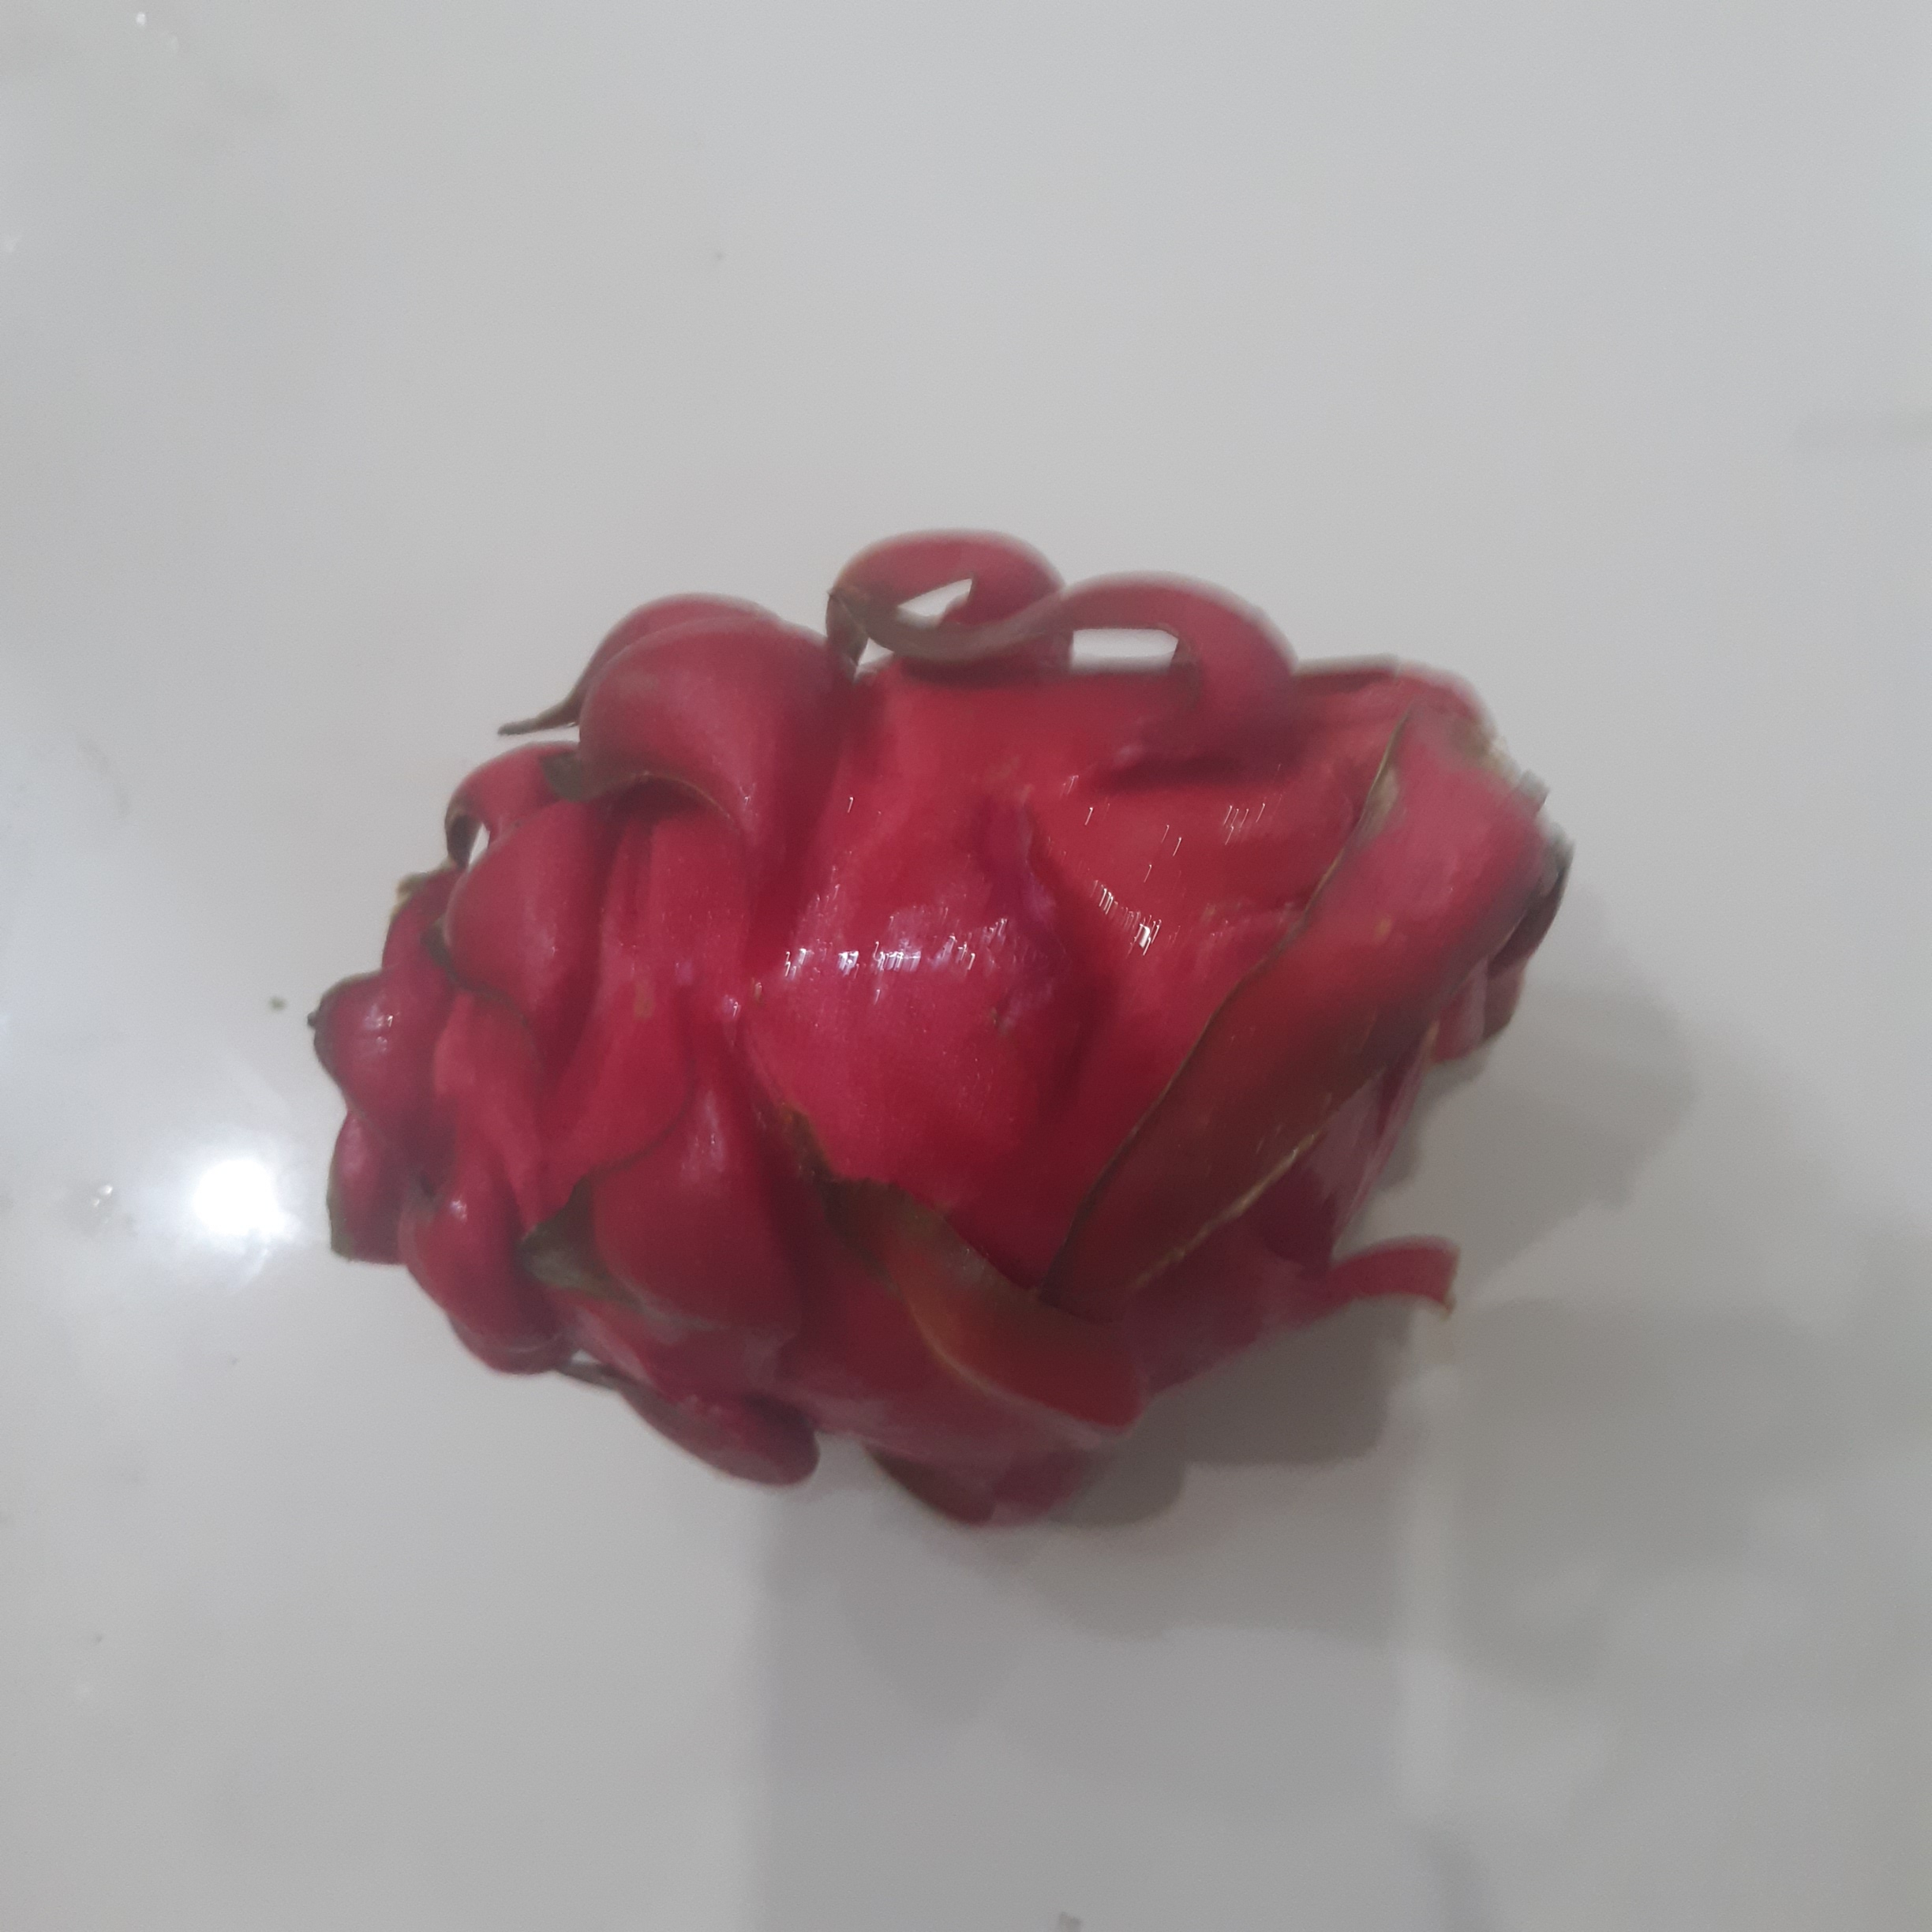Thanh long: (312, 543, 1567, 1468)
